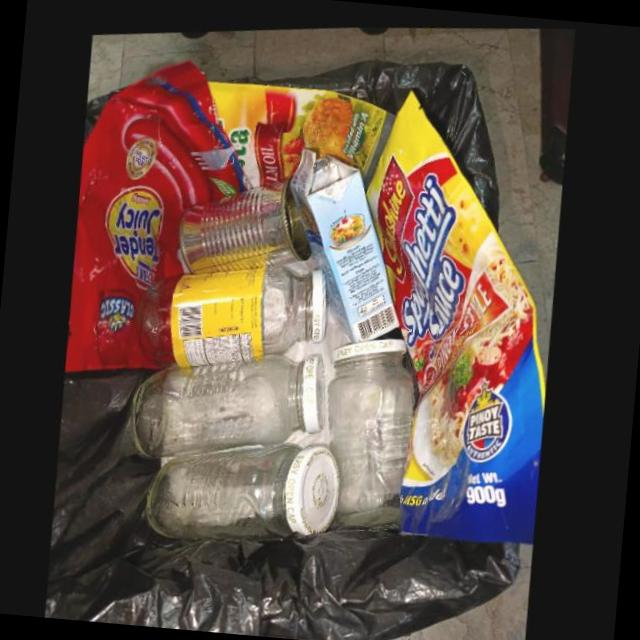bao_bi_thuc_pham: (368, 84, 547, 547), (68, 49, 245, 360), (208, 71, 389, 183)
chai_thuy_tinh: (148, 438, 342, 540), (137, 348, 331, 448), (138, 258, 328, 358), (330, 334, 420, 523)
nhom: (182, 179, 314, 266)
vo_hop_sua: (293, 142, 402, 337)
